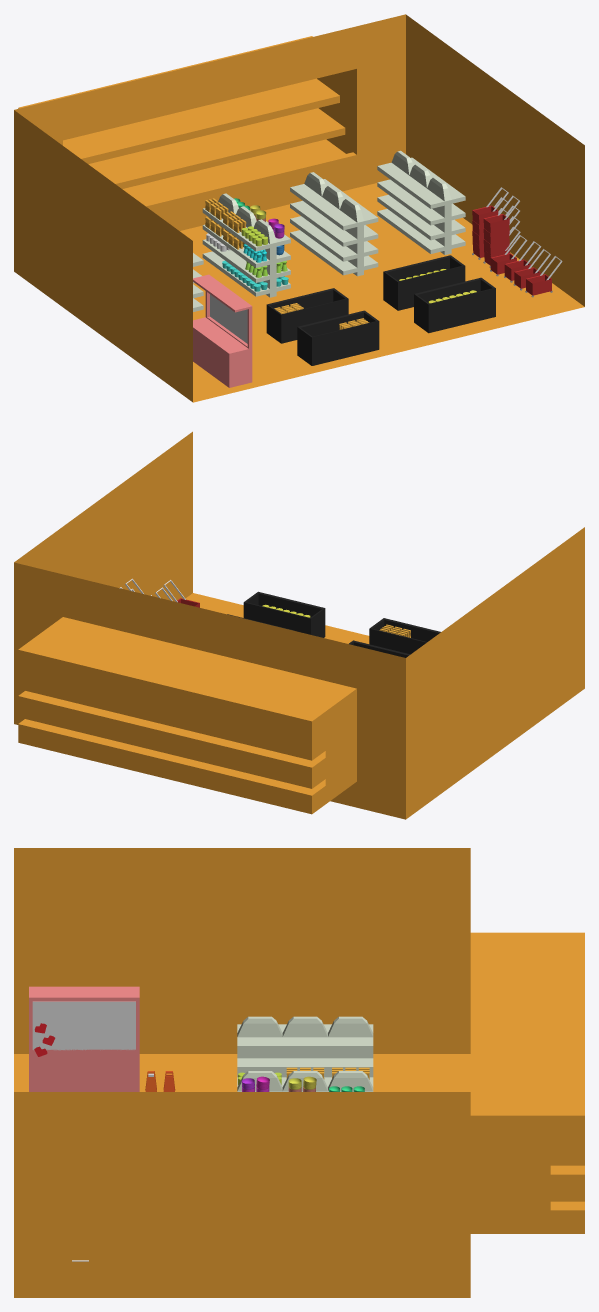
File: HW1.1_Hmart(1).fbx
The picture shows the model from 3 angles, top to bottom: view 1: azimuth 30°, elevation 25°; view 2: azimuth 150°, elevation 25°; view 3: azimuth 270°, elevation 25°; orthographic projection. The views are drawn at different scales.
Parts seen in each view (by area): view 1: Cube.004, Cube, Cube.007, Cube.001, Cube.012, Cube.008, Cube.026, Cylinder.004; view 2: Cube.004, Cube.007; view 3: Cube.004, Cube, Cube.001, Cube.008.
Part boxes in pixels (<box>): Cube.004: <box>14,14,584,402</box>; Cube: <box>193,150,465,311</box>; Cube.007: <box>266,255,495,365</box>; Cube.001: <box>193,274,252,387</box>; Cube.012: <box>205,198,246,249</box>; Cube.008: <box>210,294,247,343</box>; Cube.026: <box>483,195,519,235</box>; Cylinder.004: <box>222,260,288,291</box>; Cube.004: <box>14,431,584,819</box>; Cube.007: <box>227,591,440,657</box>; Cube.004: <box>14,848,584,1297</box>; Cube: <box>237,1016,373,1091</box>; Cube.001: <box>29,986,139,1091</box>; Cube.008: <box>32,1001,135,1050</box>.
Bounding box in the file's own units: 11628 × 4577 × 11495.
